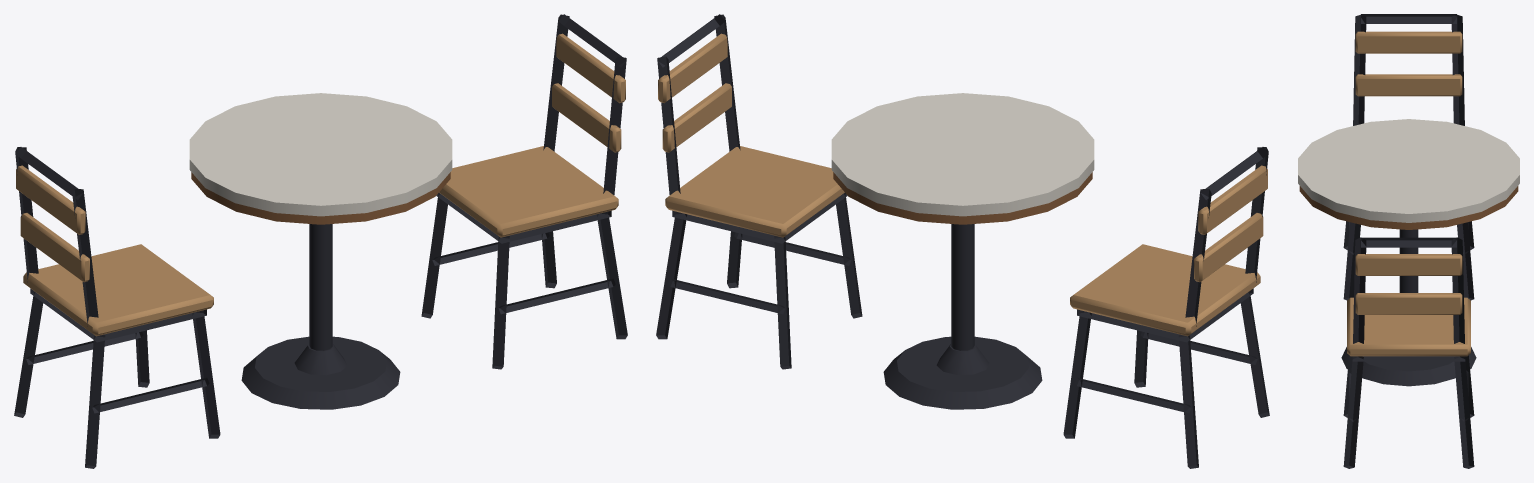
Rendered from cafe_table_set.glb.
The picture shows the model from 3 angles, left to right: view 1: azimuth 30°, elevation 25°; view 2: azimuth 150°, elevation 25°; view 3: azimuth 270°, elevation 25°; orthographic projection. The views are drawn at different scales.
Parts seen in each view (by area): view 1: body; view 2: body; view 3: body.
Boxes of the visible parts, x1,y1,x2,y2 form: body: (14,14,627,468); body: (656,14,1269,468); body: (1298,14,1519,468).
Size of the model in its own units: 1.92 by 0.9122 by 0.7878.
